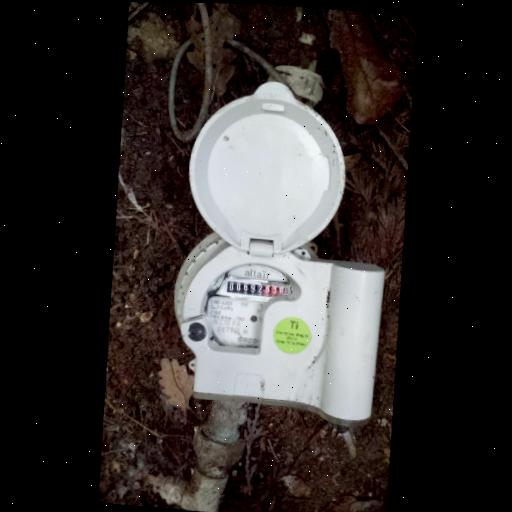0: (235, 280, 244, 294), (227, 280, 236, 293)
2: (257, 284, 264, 296)
3: (271, 285, 280, 298)
5: (278, 285, 287, 296)
6: (242, 283, 250, 295)
8: (263, 284, 272, 297)
9: (249, 283, 258, 296)
border_water_meter_number: (222, 275, 289, 304)
